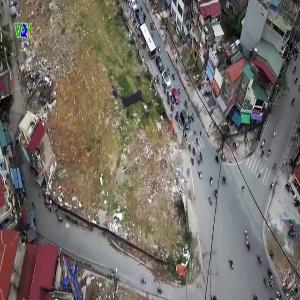drone: (85, 49, 188, 152)
